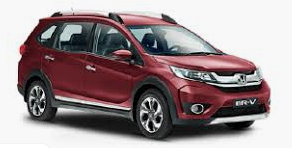car: (17, 9, 272, 140)
